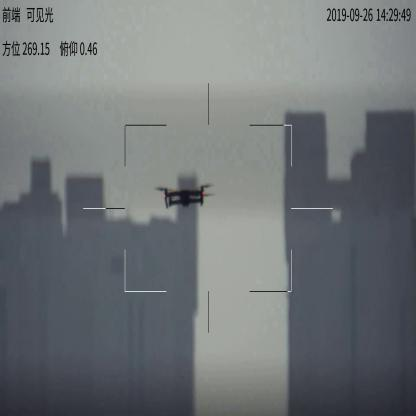uav: (154, 184, 216, 209)
